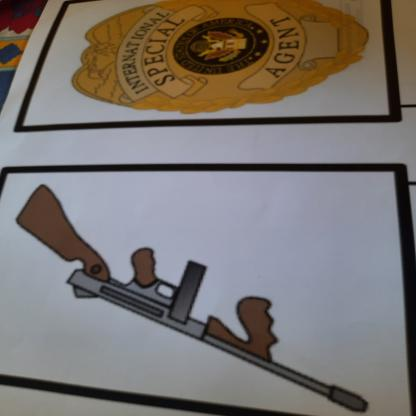Bootlegger: (7, 170, 378, 416)
G-man: (59, 1, 381, 122)
